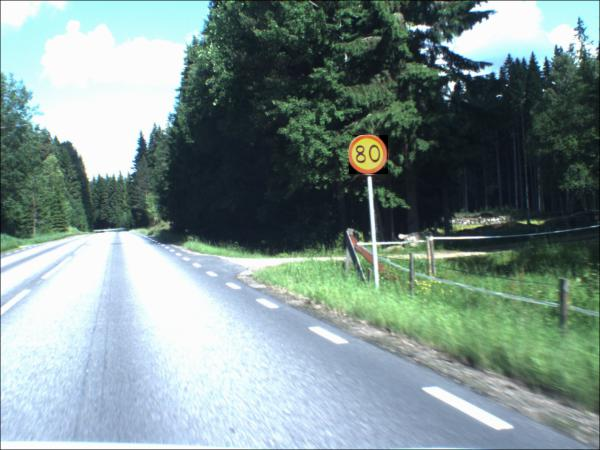80_SIGN: (351, 137, 391, 177)
